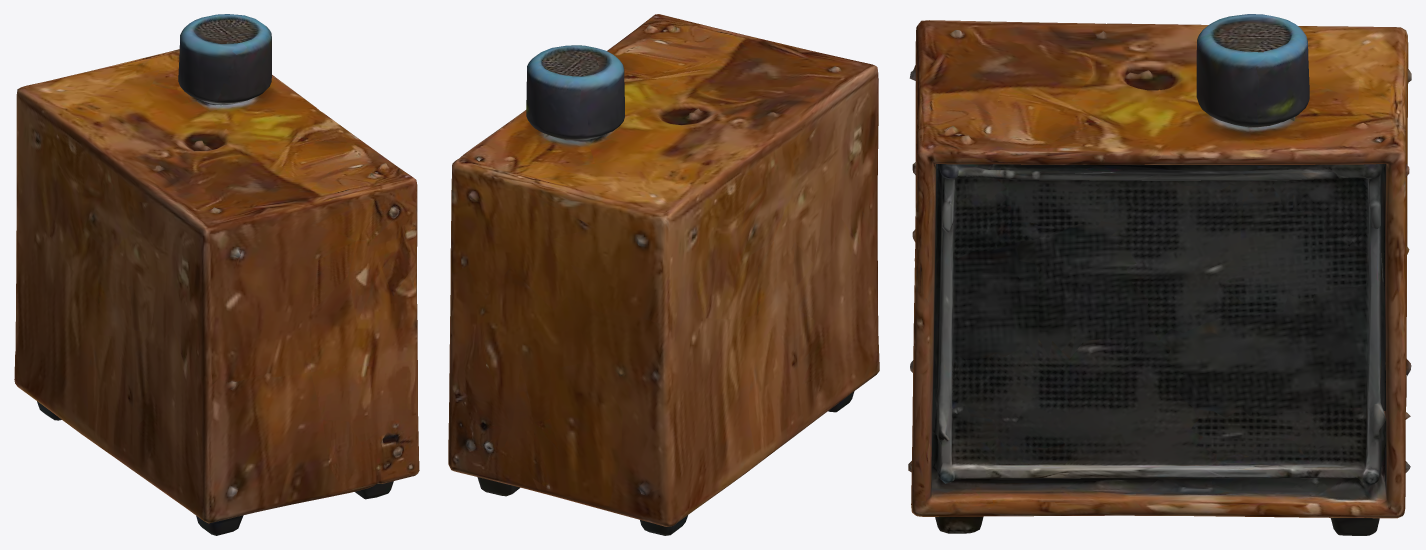
Rendered from speaker.glb.
3 views of the same model, side by side, from view 1: azimuth 30°, elevation 25°; view 2: azimuth 150°, elevation 25°; view 3: azimuth 270°, elevation 25° (orthographic). The views are drawn at different scales.
Parts seen in each view (by area): view 1: tripo_node_d06e069d-8563-47bd-9581-7ac5477b0b62; view 2: tripo_node_d06e069d-8563-47bd-9581-7ac5477b0b62; view 3: tripo_node_d06e069d-8563-47bd-9581-7ac5477b0b62.
Boxes of the visible parts, bbox=[...] form: tripo_node_d06e069d-8563-47bd-9581-7ac5477b0b62: bbox=[14, 14, 419, 535]; tripo_node_d06e069d-8563-47bd-9581-7ac5477b0b62: bbox=[448, 14, 879, 535]; tripo_node_d06e069d-8563-47bd-9581-7ac5477b0b62: bbox=[908, 14, 1411, 535].
Bounding box in the file's own units: 0.592 × 1 × 0.951.
1 material, 1 textured.
